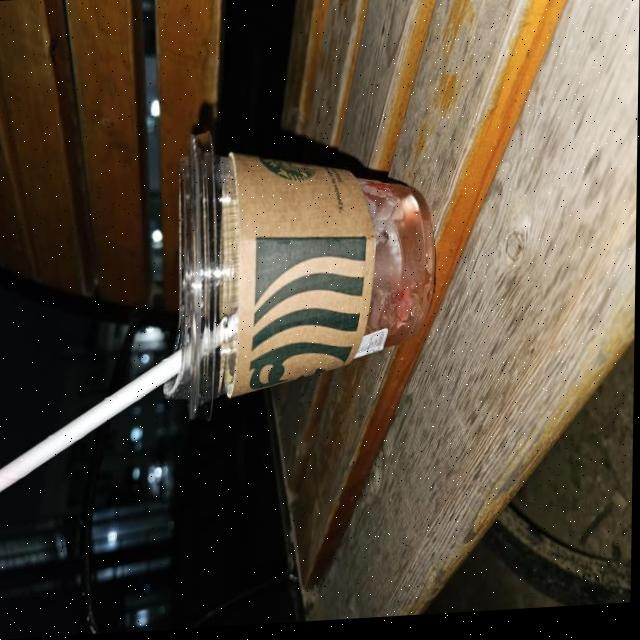cup: (153, 112, 442, 431)
